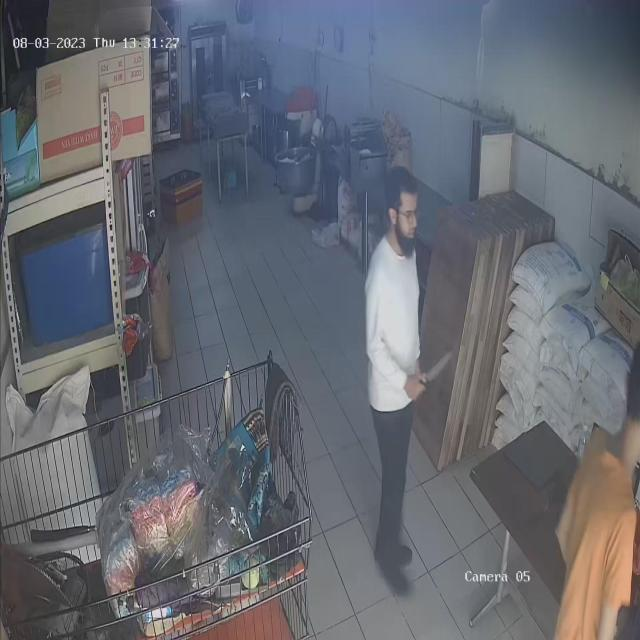Knife: (413, 333, 464, 409)
